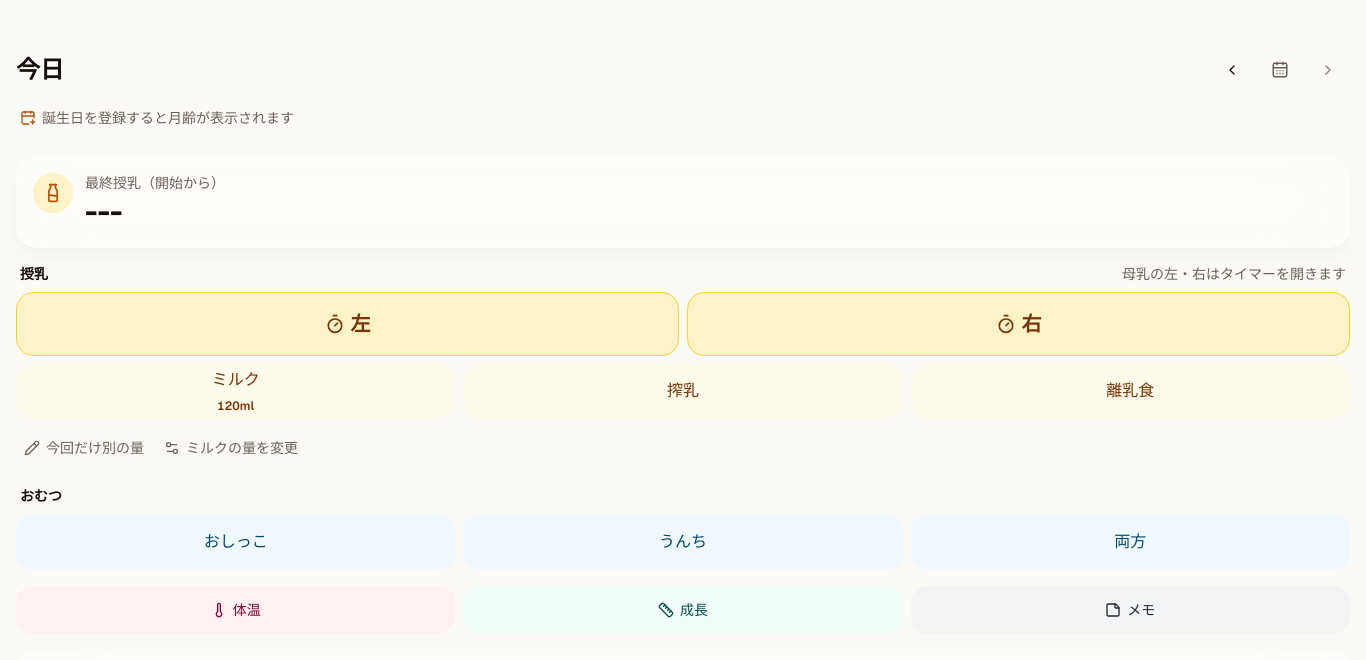
Test case: クイック記録したミルクを編集しても、記録時刻は利用者の意図のまま › 編集シートの開始時刻は DB の記録時刻（14:20）で開く
The width and height of the screenshot is (1366, 660).
Click the button "ミルク 120ml" at (236, 390), box [16, 364, 455, 418]
(page scrolled)
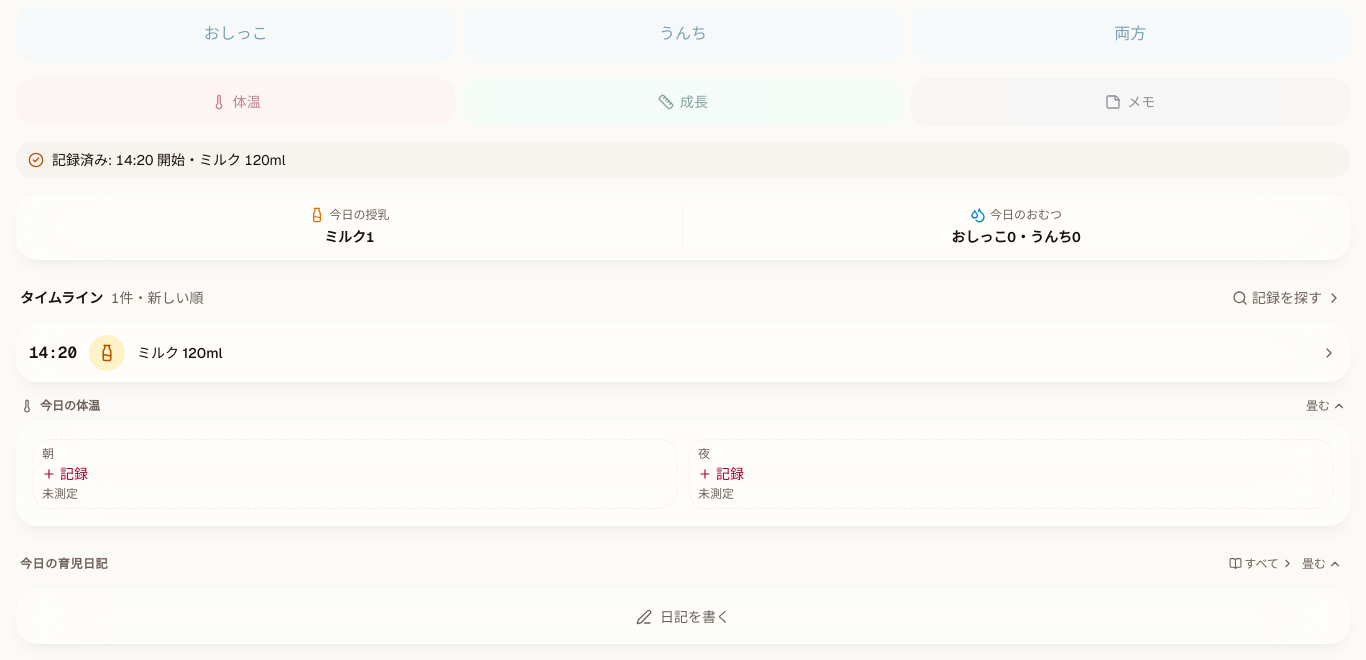
Click the button "14:20 ミルク 120ml" at (53, 352), box [17, 324, 1349, 380]
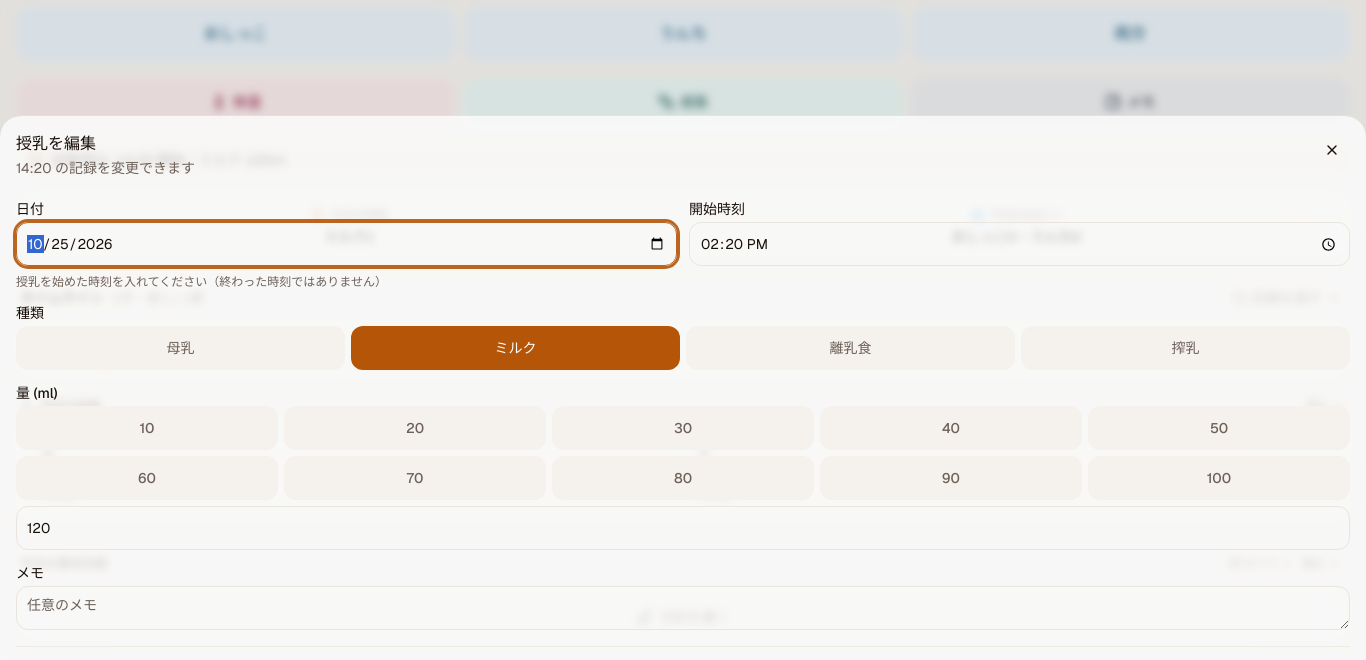
Check: the time field labelled "開始時刻" holds "14:20", box [689, 222, 1350, 266]
